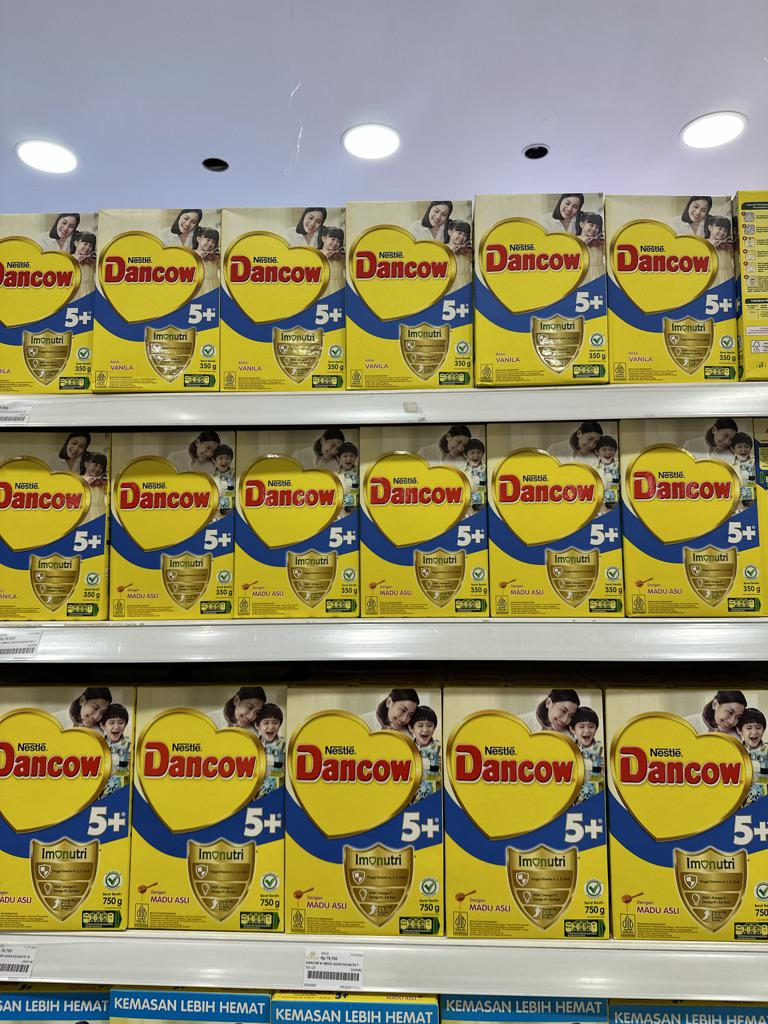DANCOW 5+ Madu Advn ExcNutr 12x800g ID_REDESIGN3: (444, 683, 608, 938), (608, 682, 763, 941), (284, 687, 443, 937), (130, 683, 283, 934)
DANCOW 5+ Madu Advn ExcNutr 24x400g ID_REDESIGN3: (621, 418, 761, 619), (488, 423, 624, 618), (359, 424, 489, 619), (234, 429, 361, 618), (110, 430, 236, 620)
